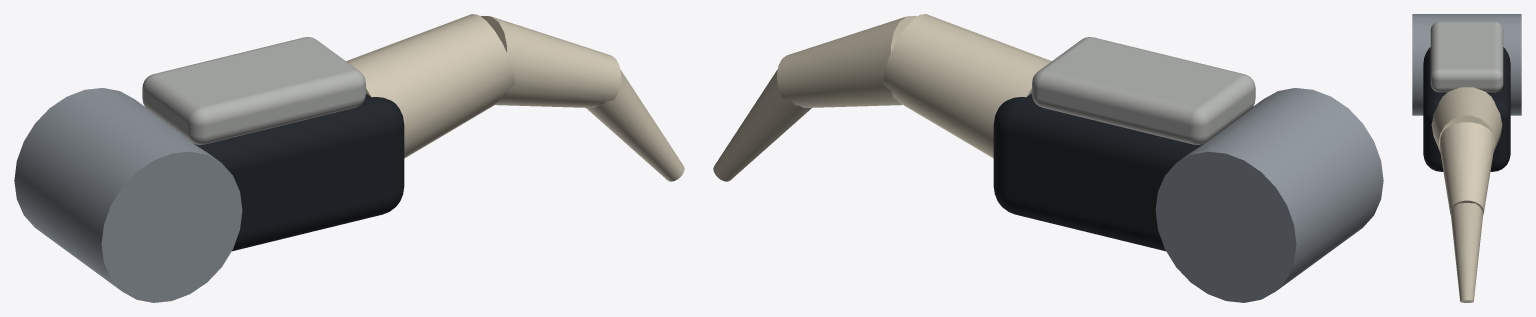
The model's file is right_toe_2_distal_link.glb.
The picture shows the model from 3 angles, left to right: view 1: azimuth 30°, elevation 25°; view 2: azimuth 150°, elevation 25°; view 3: azimuth 270°, elevation 25°; orthographic projection. The views are drawn at different scales.
Visible parts, largest first — view 1: right_toe_2_distal_link; view 2: right_toe_2_distal_link; view 3: right_toe_2_distal_link.
Part boxes in pixels (box(x1,y1,x2,y2)): right_toe_2_distal_link: box(14, 14, 684, 302); right_toe_2_distal_link: box(713, 14, 1383, 302); right_toe_2_distal_link: box(1412, 14, 1521, 302).
Size of the model in its own units: 0.1242 by 0.0397 by 0.03.
